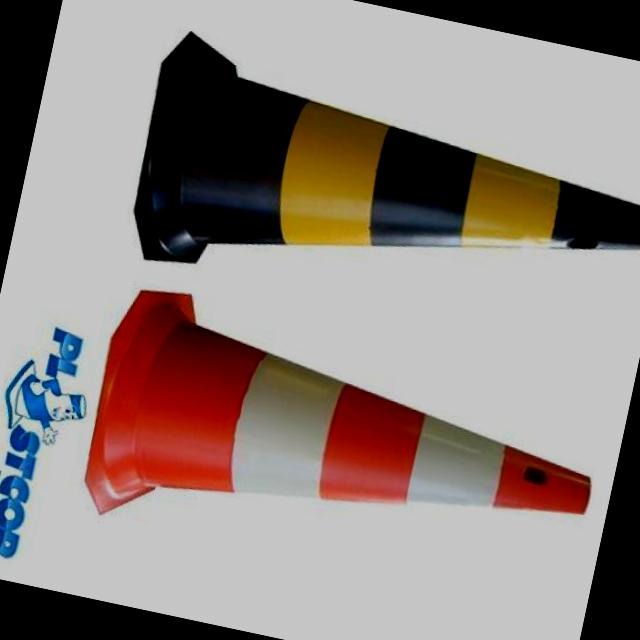cone: (71, 286, 631, 620), (116, 24, 640, 373)
